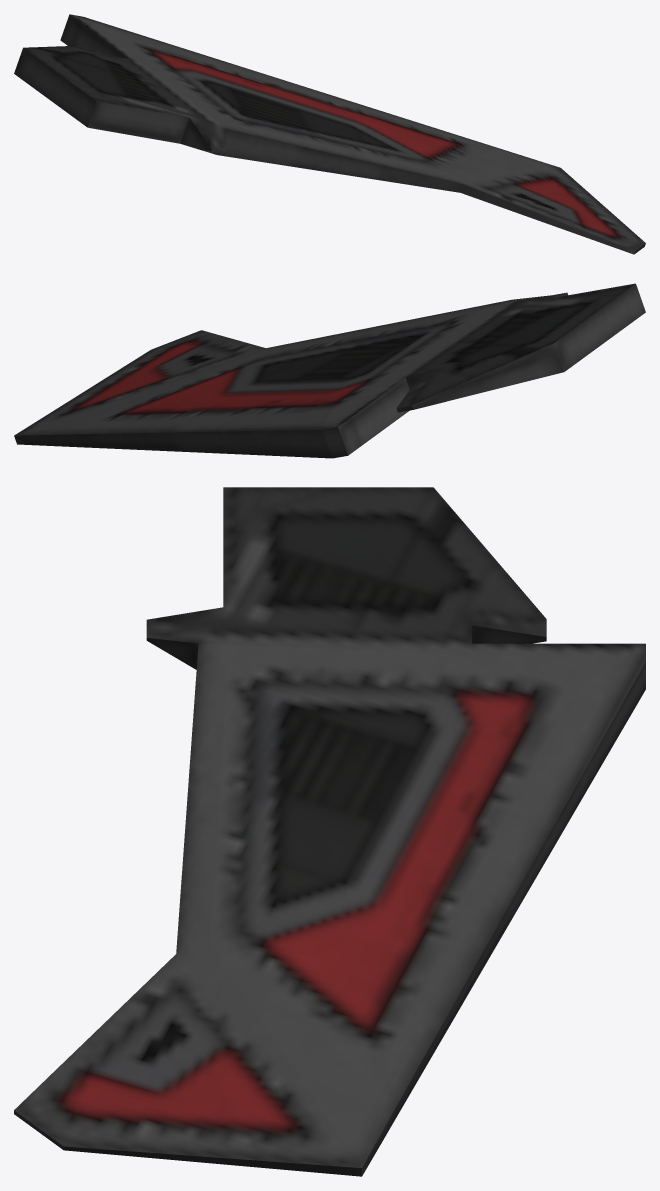
Rendered from BFP_FrontGuideWing_Left.FBX.
3 renders of one model, top to bottom at view 1: azimuth 30°, elevation 25°; view 2: azimuth 150°, elevation 25°; view 3: azimuth 270°, elevation 25°, orthographic. The views are drawn at different scales.
Parts seen in each view (by area): view 1: BFP_FrontGuideWing_Left; view 2: BFP_FrontGuideWing_Left; view 3: BFP_FrontGuideWing_Left.
Part boxes in pixels (<box>): BFP_FrontGuideWing_Left: <box>14,14,645,254</box>; BFP_FrontGuideWing_Left: <box>14,283,645,458</box>; BFP_FrontGuideWing_Left: <box>14,487,645,1176</box>.
Bounding box in the file's own units: 164 × 70.23 × 120.
Materials: 1 (1 with a texture image).
